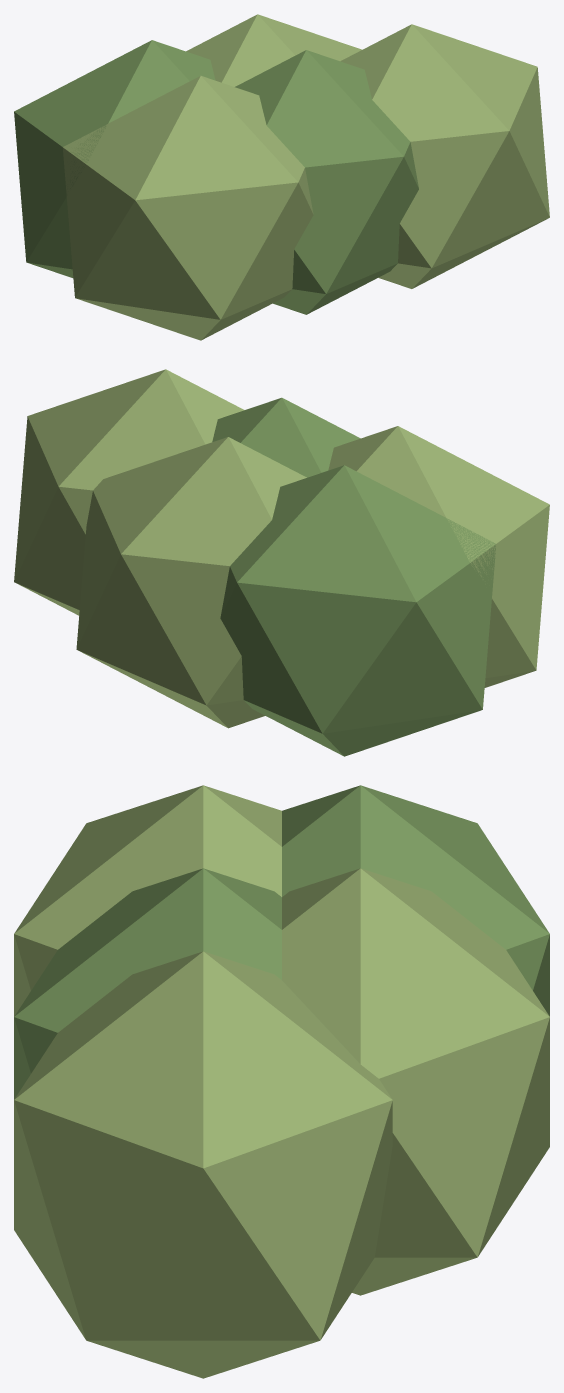
The model's file is bush.glb.
3 views of the same model, one above another, from view 1: azimuth 30°, elevation 25°; view 2: azimuth 150°, elevation 25°; view 3: azimuth 270°, elevation 25° (orthographic). The views are drawn at different scales.
Parts seen in each view (by area): view 1: Mesh_bush_leafLight, Mesh_bush_leaf; view 2: Mesh_bush_leafLight, Mesh_bush_leaf; view 3: Mesh_bush_leafLight, Mesh_bush_leaf.
Boxes of the visible parts, bbox=[...] form: Mesh_bush_leafLight: bbox=[62, 14, 549, 340]; Mesh_bush_leaf: bbox=[14, 40, 418, 314]; Mesh_bush_leafLight: bbox=[14, 369, 549, 728]; Mesh_bush_leaf: bbox=[212, 397, 495, 756]; Mesh_bush_leafLight: bbox=[14, 785, 549, 1378]; Mesh_bush_leaf: bbox=[14, 785, 549, 1099].
Size of the model in its own units: 0.6578 by 0.36 by 0.4092.
